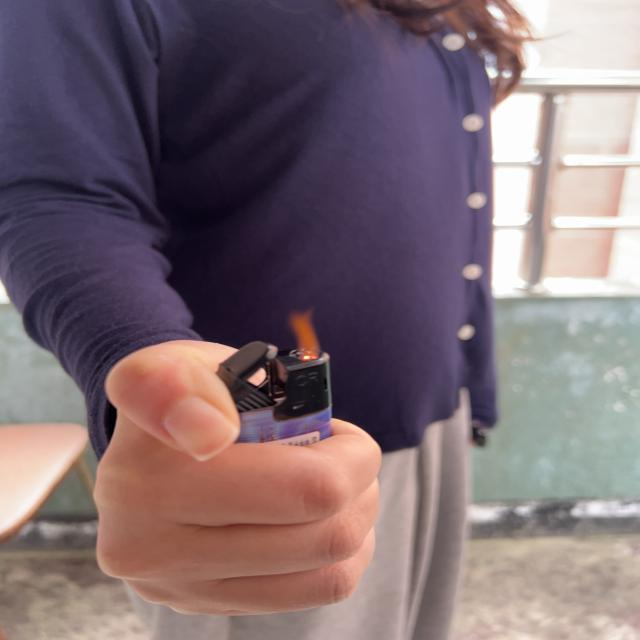fire: (286, 306, 322, 361)
